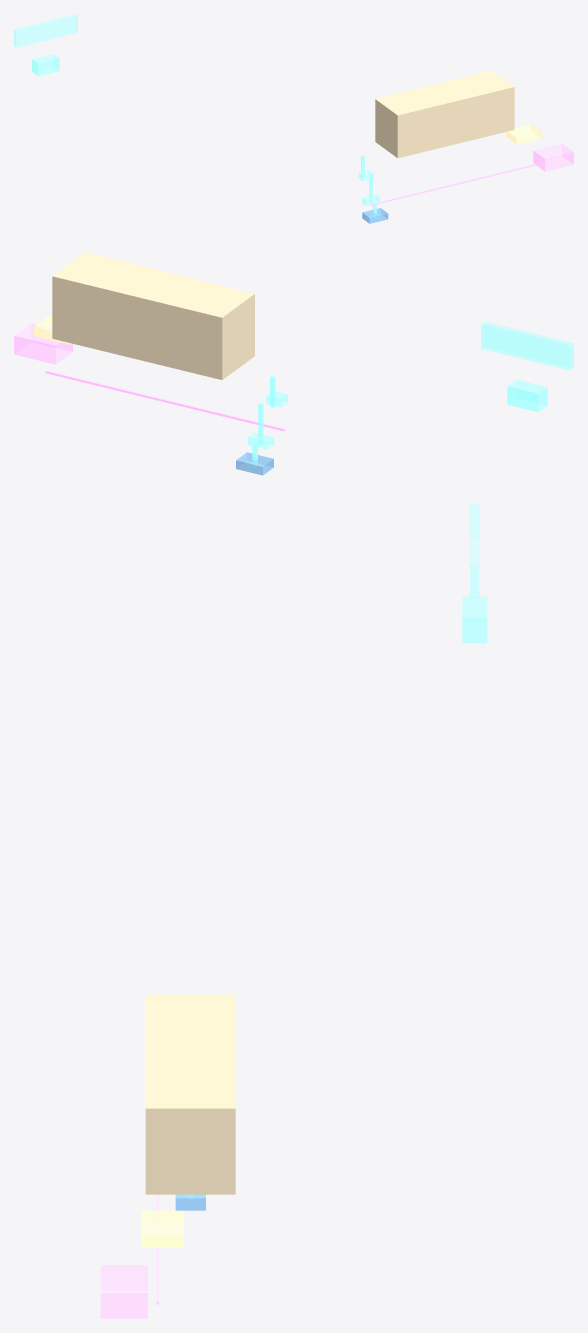
Rendered from clean.gltf.
The picture shows the model from 3 angles, top to bottom: view 1: azimuth 30°, elevation 25°; view 2: azimuth 150°, elevation 25°; view 3: azimuth 270°, elevation 25°; orthographic projection. The views are drawn at different scales.
Visible parts, largest first — view 1: SphinxBody_Shape, KhufuBigVoid_Shape, HallOfRecords_Shape, KhufuKingsChamber_Shape, SphinxPawVoid_Shape, UndergroundLink_Shape, OsirisLevel3Water_Shape; view 2: SphinxBody_Shape, KhufuBigVoid_Shape, HallOfRecords_Shape, KhufuKingsChamber_Shape, UndergroundLink_Shape, OsirisLevel3Water_Shape, SphinxPawVoid_Shape, OsirisChamberB_Shape; view 3: SphinxBody_Shape, HallOfRecords_Shape, SphinxPawVoid_Shape, KhufuKingsChamber_Shape.
Part boxes in pixels (left/top/right/bottom): SphinxBody_Shape: left=375, top=70, right=514, bottom=158; KhufuBigVoid_Shape: left=14, top=14, right=77, bottom=47; HallOfRecords_Shape: left=533, top=143, right=573, bottom=171; KhufuKingsChamber_Shape: left=32, top=54, right=59, bottom=76; SphinxPawVoid_Shape: left=506, top=124, right=541, bottom=144; UndergroundLink_Shape: left=371, top=164, right=535, bottom=205; OsirisLevel3Water_Shape: left=362, top=208, right=388, bottom=223; SphinxBody_Shape: left=52, top=252, right=254, bottom=379; KhufuBigVoid_Shape: left=481, top=321, right=573, bottom=370; HallOfRecords_Shape: left=14, top=323, right=72, bottom=364; KhufuKingsChamber_Shape: left=507, top=379, right=547, bottom=412; UndergroundLink_Shape: left=45, top=371, right=285, bottom=431; OsirisLevel3Water_Shape: left=236, top=452, right=273, bottom=475; SphinxPawVoid_Shape: left=34, top=315, right=70, bottom=344; OsirisChamberB_Shape: left=247, top=432, right=274, bottom=449; SphinxBody_Shape: left=145, top=994, right=235, bottom=1194; HallOfRecords_Shape: left=100, top=1265, right=147, bottom=1318; SphinxPawVoid_Shape: left=141, top=1210, right=183, bottom=1247; KhufuKingsChamber_Shape: left=462, top=596, right=487, bottom=643.
Bounding box in the file's own units: 227 × 96.77 × 81.62.
